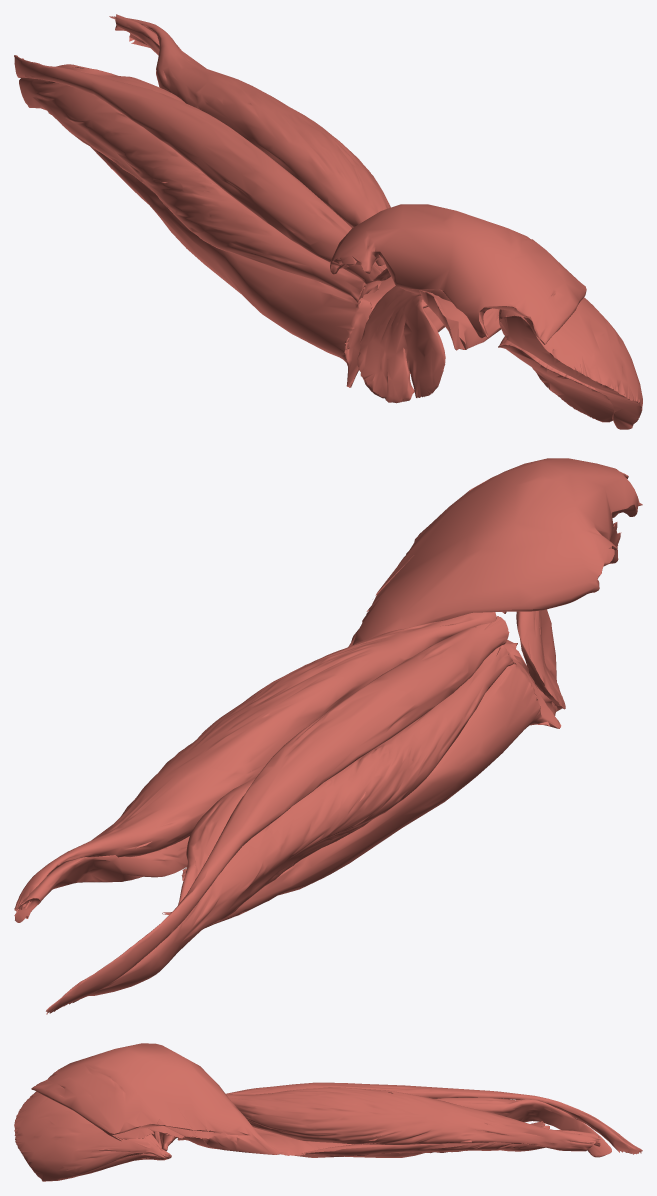
The model's file is thighb.glb.
The picture shows the model from 3 angles, top to bottom: view 1: azimuth 30°, elevation 25°; view 2: azimuth 150°, elevation 25°; view 3: azimuth 270°, elevation 25°; orthographic projection. The views are drawn at different scales.
Visible parts, largest first — view 1: left gluteus maximus, left semimembranosus, left semitendinosus, long head of left biceps femoris, left adductor magnus, left gluteus medius, left obturator internus, left gluteus minimus, left piriformis, short head of left biceps femoris; view 2: left gluteus maximus, long head of left biceps femoris, left semimembranosus, left semitendinosus, left adductor magnus, short head of left biceps femoris, left obturator internus; view 3: left gluteus maximus, long head of left biceps femoris, left gluteus medius, left semitendinosus, left semimembranosus, short head of left biceps femoris, left adductor magnus, left gluteus minimus.
Part boxes in pixels (x1,y1,x2,y2): left gluteus maximus: (330,204,586,344); left semimembranosus: (19,64,382,302); left semitendinosus: (14,55,390,284); long head of left biceps femoris: (109,16,390,265); left adductor magnus: (48,112,395,387); left gluteus medius: (499,297,642,429); left obturator internus: (357,285,445,403); left gluteus minimus: (498,336,613,422); left piriformis: (419,290,500,350); short head of left biceps femoris: (115,14,159,55); left gluteus maximus: (348,458,642,646); long head of left biceps femoris: (14,612,496,918); left semimembranosus: (88,645,513,995); left semitendinosus: (46,616,509,1014); left adductor magnus: (162,657,561,927); short head of left biceps femoris: (14,836,189,922); left obturator internus: (516,609,565,711); left gluteus maximus: (31,1043,280,1154); long head of left biceps femoris: (226,1087,600,1151); left gluteus medius: (14,1091,165,1181); left semitendinosus: (226,1082,642,1154); left semimembranosus: (434,1097,611,1157); short head of left biceps femoris: (302,1130,600,1156); left adductor magnus: (177,1121,549,1157); left gluteus minimus: (71,1149,171,1178).
Bounding box in the file's own units: 151 × 133 × 668.
